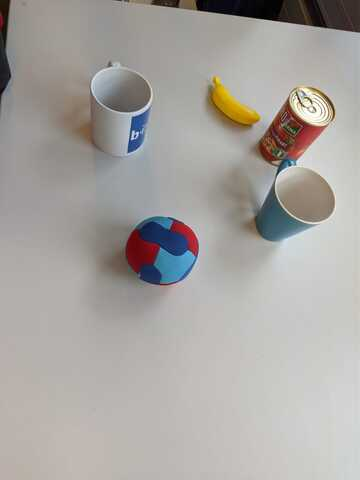005_tomato_soup_can: (259, 86, 336, 167)
011_banana: (208, 73, 262, 125)
025_mug: (256, 161, 338, 242), (87, 59, 154, 158)
057_racquetball: (126, 216, 202, 288)
